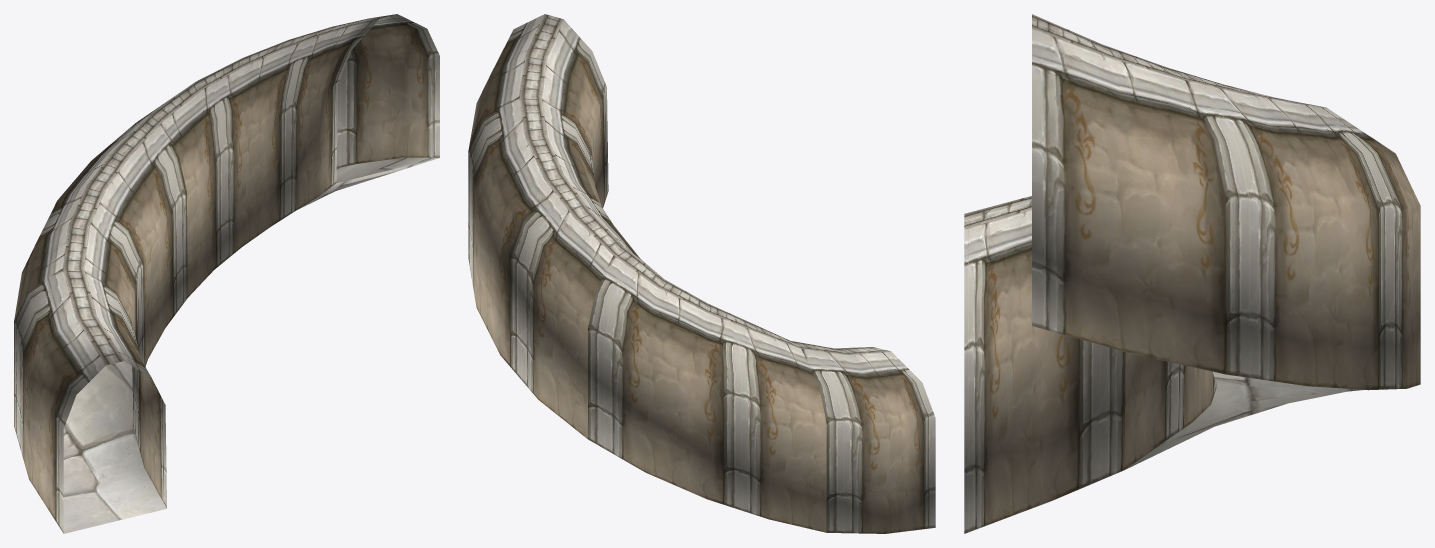
File: stormwind_127.fbx
3 renders of one model, left to right at view 1: azimuth 30°, elevation 25°; view 2: azimuth 150°, elevation 25°; view 3: azimuth 270°, elevation 25°, orthographic. The views are drawn at different scales.
Visible parts, largest first — view 1: stormwind_127_67, stormwind_127_52, stormwind_127_40; view 2: stormwind_127_67, stormwind_127_40; view 3: stormwind_127_67, stormwind_127_52, stormwind_127_40.
Boxes of the visible parts, x1,y1,x2,y2 form: stormwind_127_67: (14, 14, 439, 533); stormwind_127_52: (63, 157, 438, 533); stormwind_127_40: (63, 14, 395, 365); stormwind_127_67: (468, 14, 935, 533); stormwind_127_40: (520, 14, 889, 354); stormwind_127_67: (964, 28, 1420, 533); stormwind_127_52: (1125, 371, 1362, 469); stormwind_127_40: (964, 14, 1322, 228).
Bounding box in the file's own units: 15.42 × 15.6 × 9.03.
